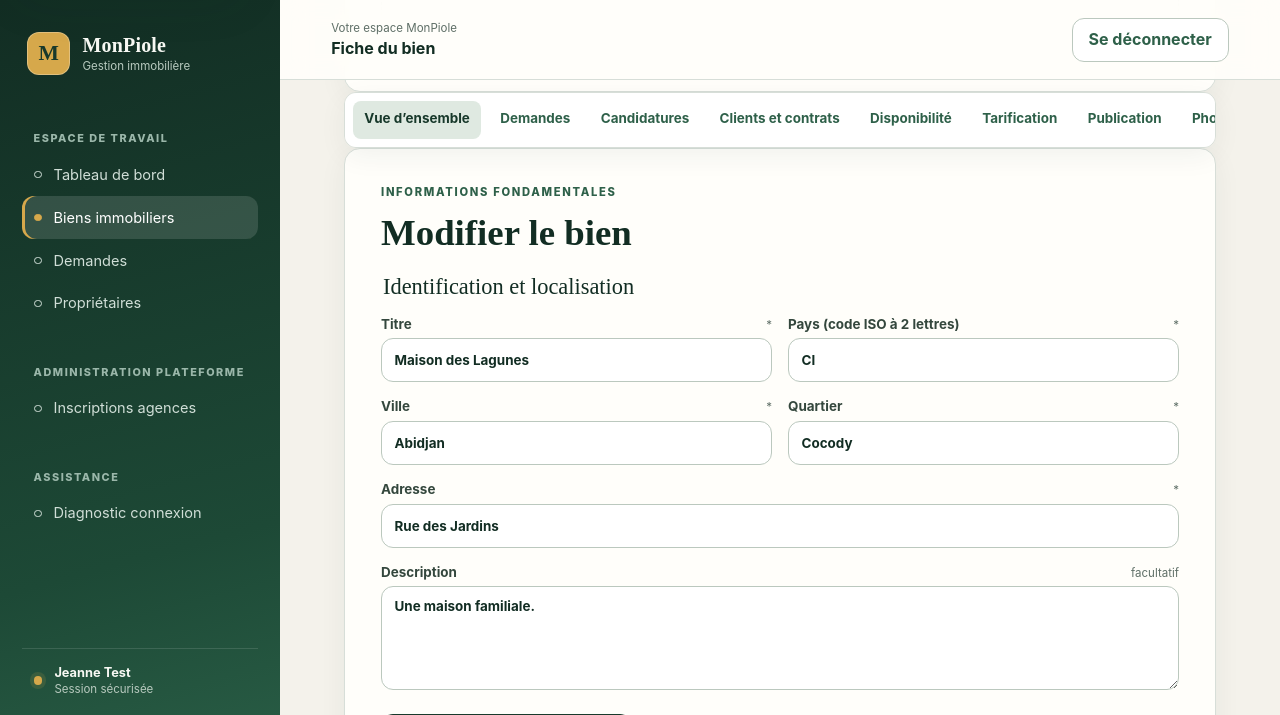
Test: vertical slice Web Property › modifie les informations fondamentales avec le bearer et actualise la fiche
The width and height of the screenshot is (1280, 715).
(page scrolled)
Replace the text in the field labelled "Titre" with "Villa Lagune" at (576, 360), box x1=381 y1=338 x2=772 y2=382
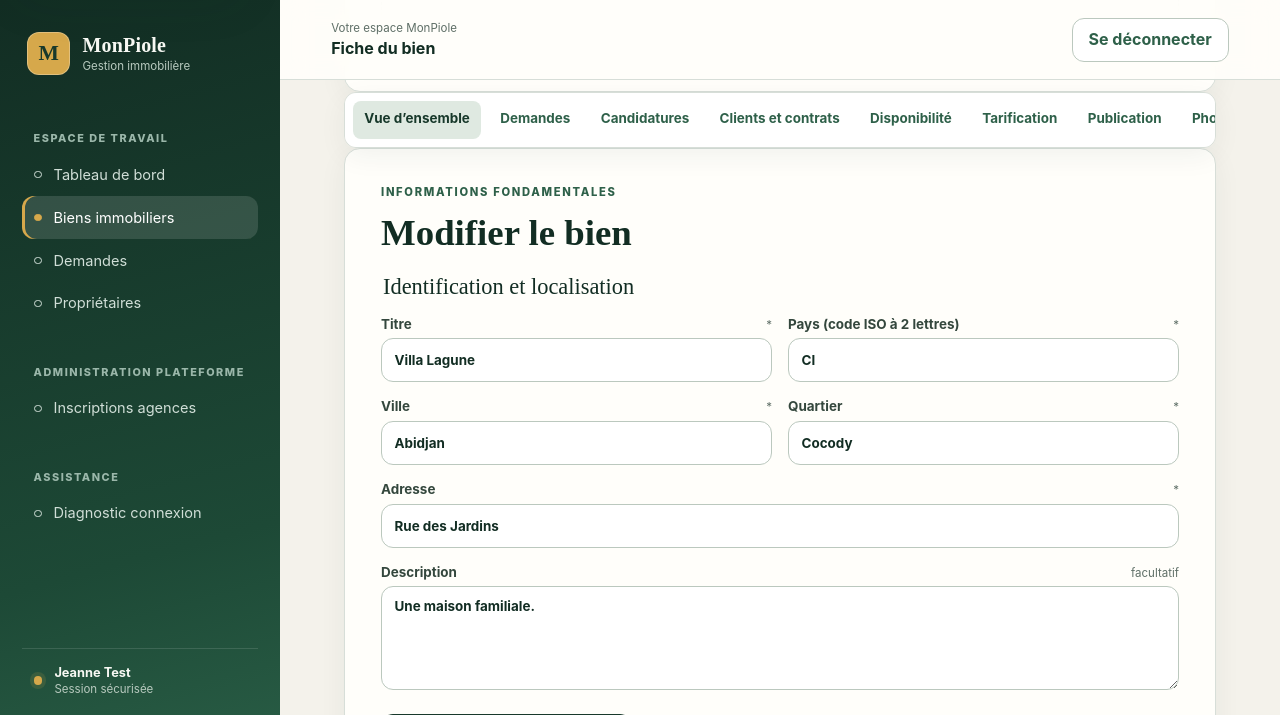
Replace the text in the field labelled "Quartier" with "Marcory" at (984, 443), box x1=788 y1=421 x2=1179 y2=465
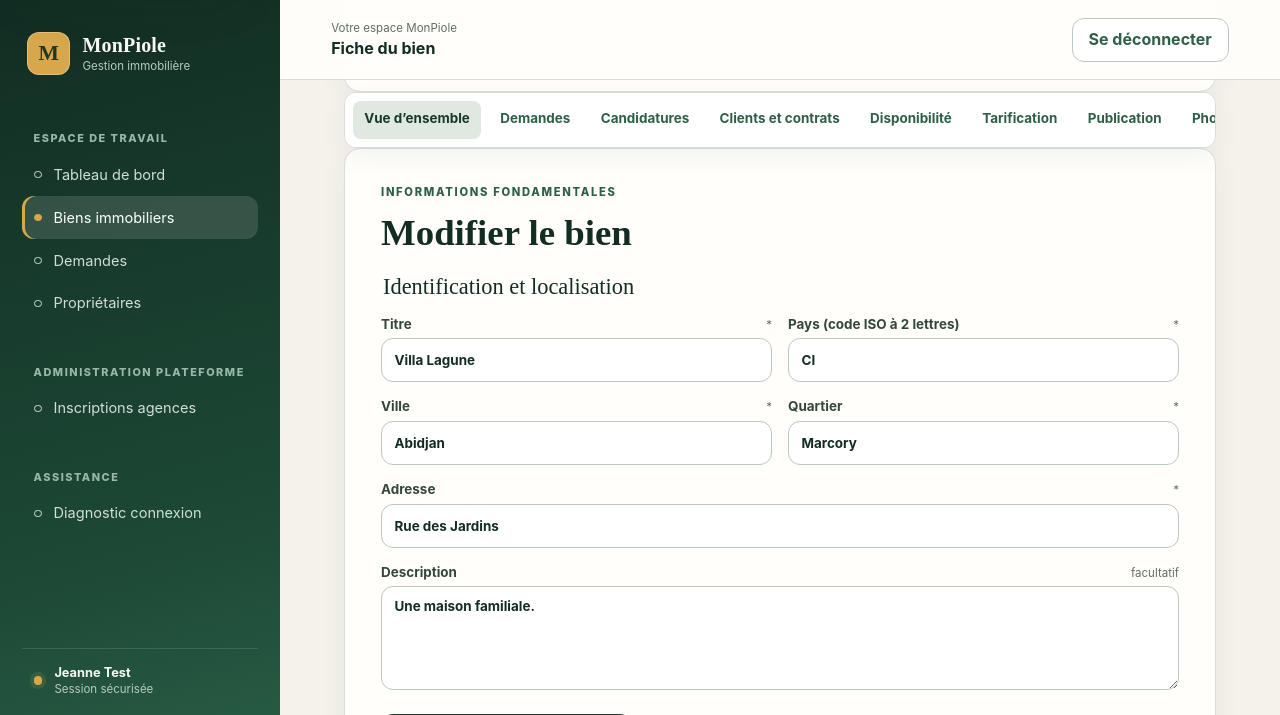
Replace the text in the field labelled "Adresse" with "Zone 4" at (780, 526), box x1=381 y1=504 x2=1179 y2=548
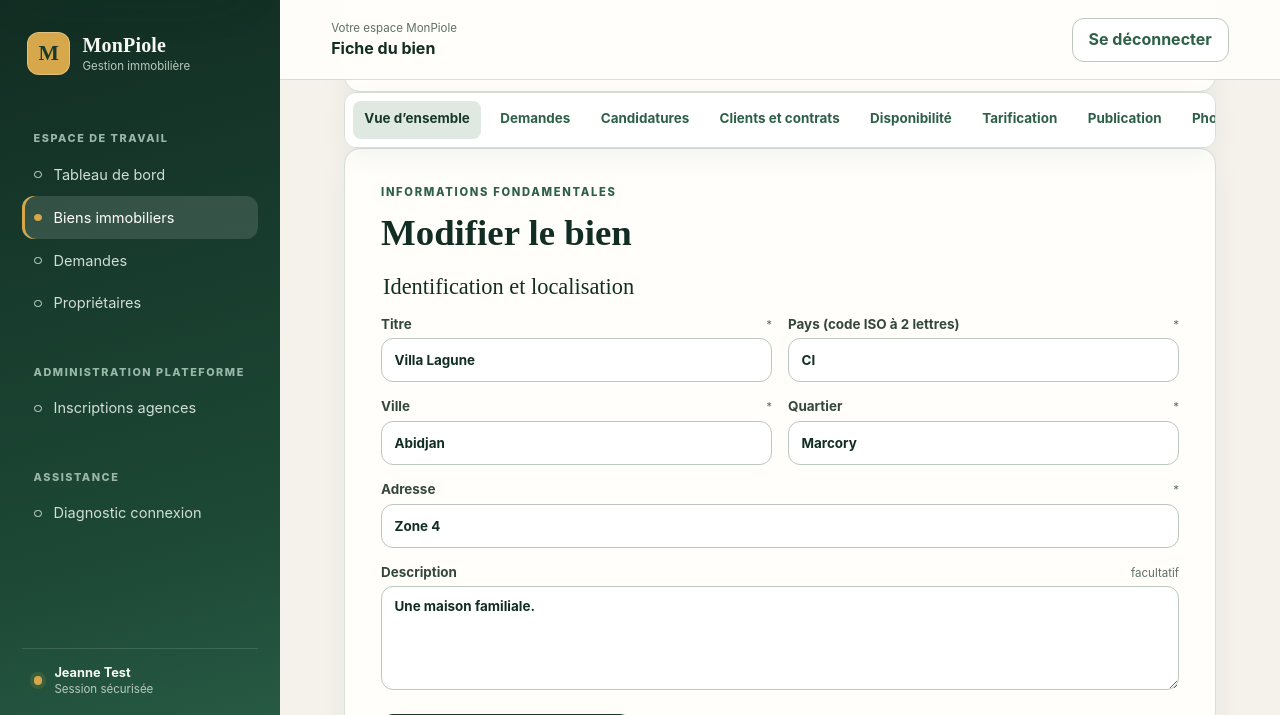
Replace the text in the text box labelled "Description" with "Vue sur la lagune" at (780, 638), box x1=381 y1=586 x2=1179 y2=690
(page scrolled)
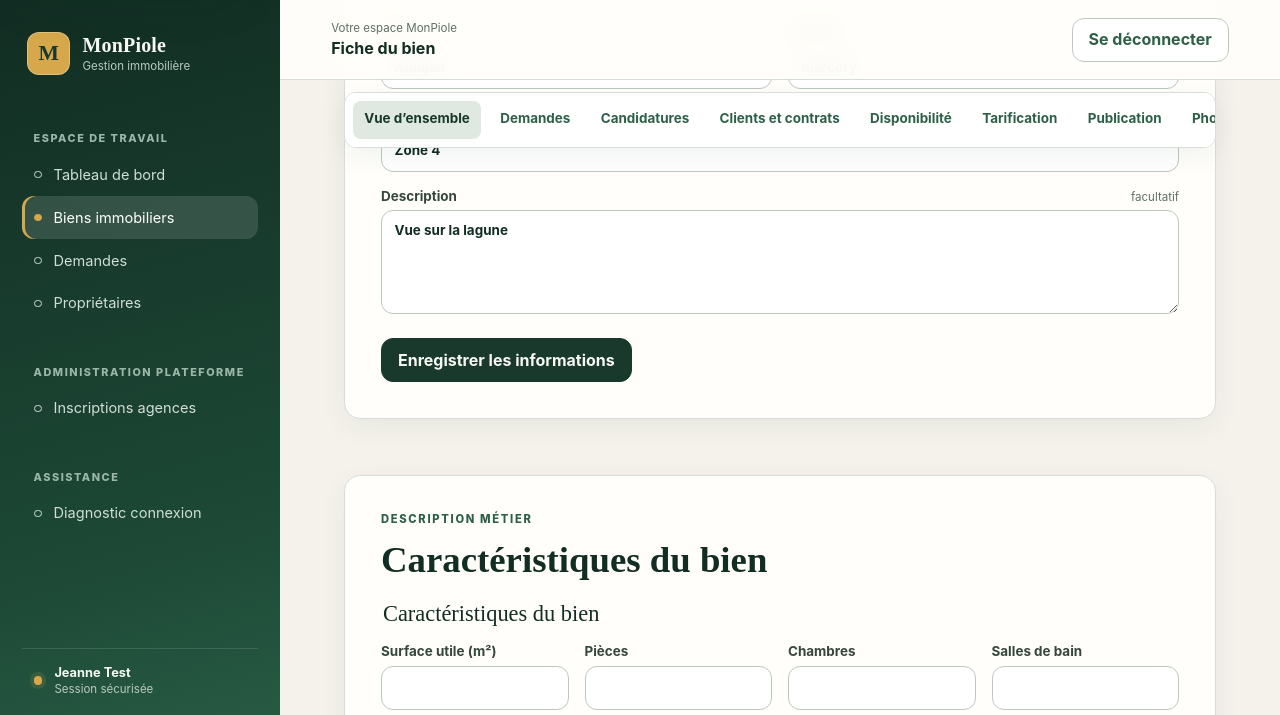
Click the button "Enregistrer les informations" at (506, 360), box x1=381 y1=338 x2=632 y2=382
(page scrolled)
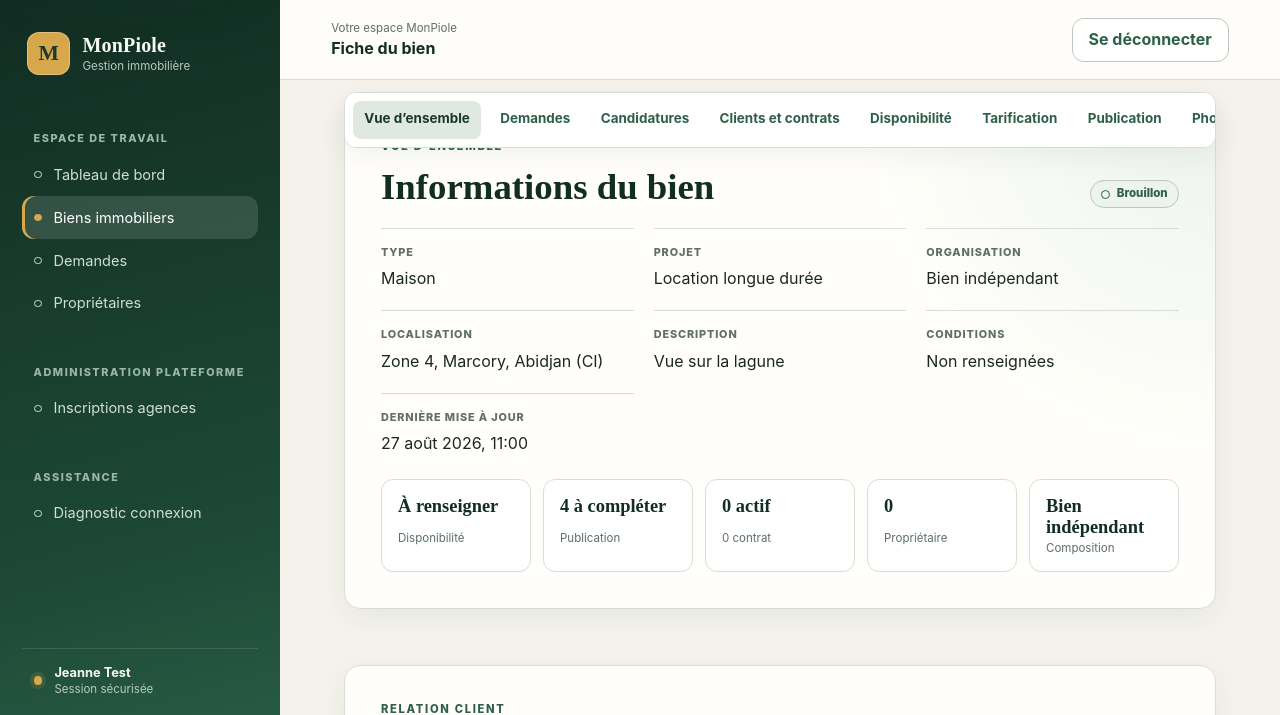
Check: the text "Vue sur la lagune" is shown, box x1=654 y1=351 x2=785 y2=371
